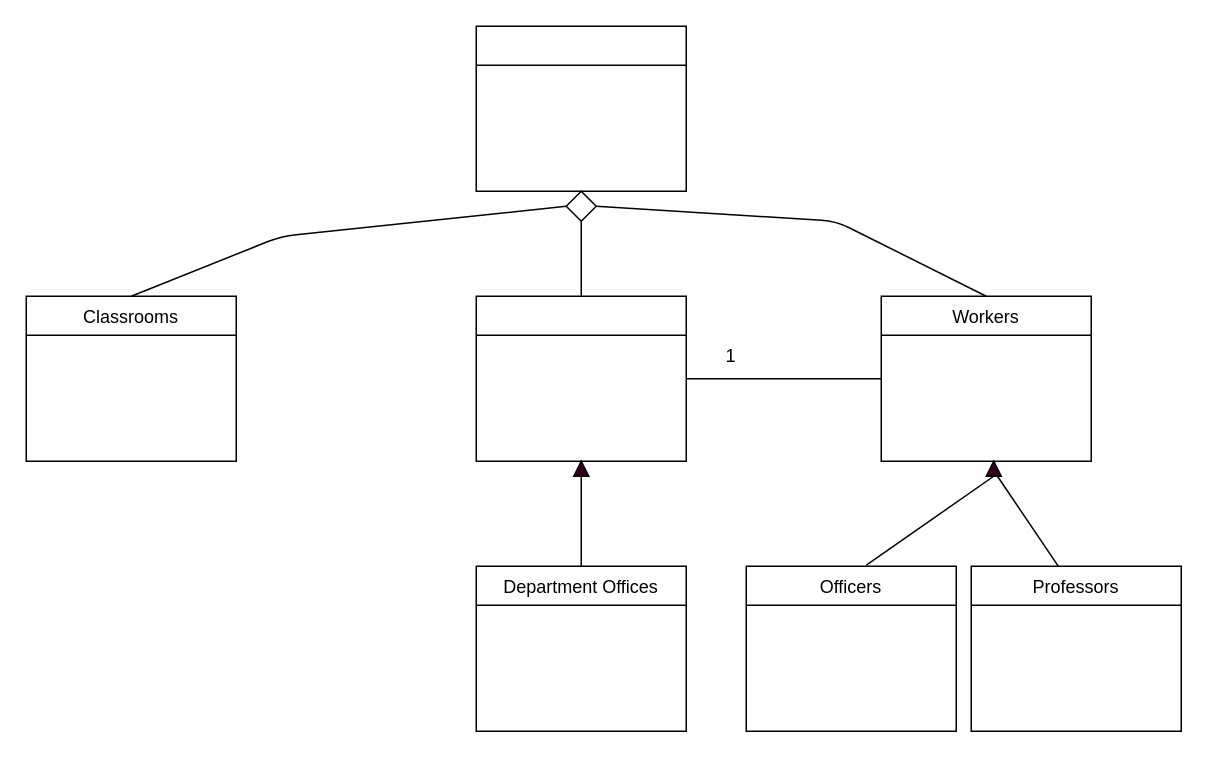
Some shapes in this 1208 by 758 pixel diagram are drawn without their labels. Each missing label, with the box of its shape:
Department: (475, 295, 686, 461)
University: (475, 25, 686, 191)
